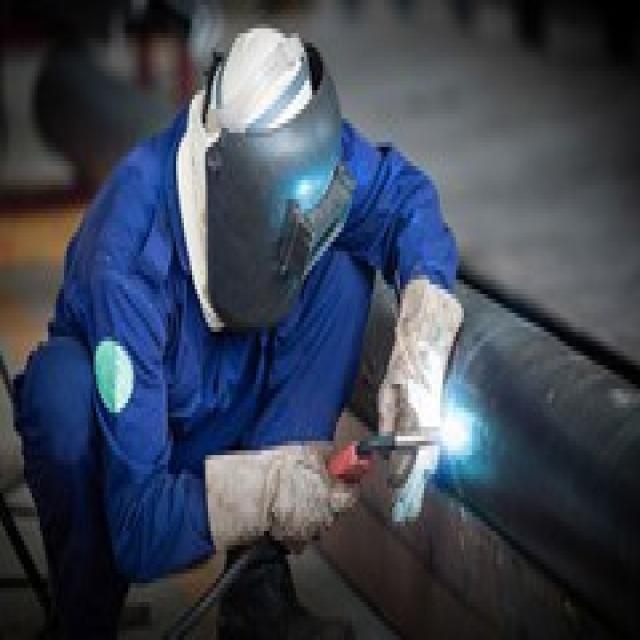welding: (440, 412, 474, 462)
